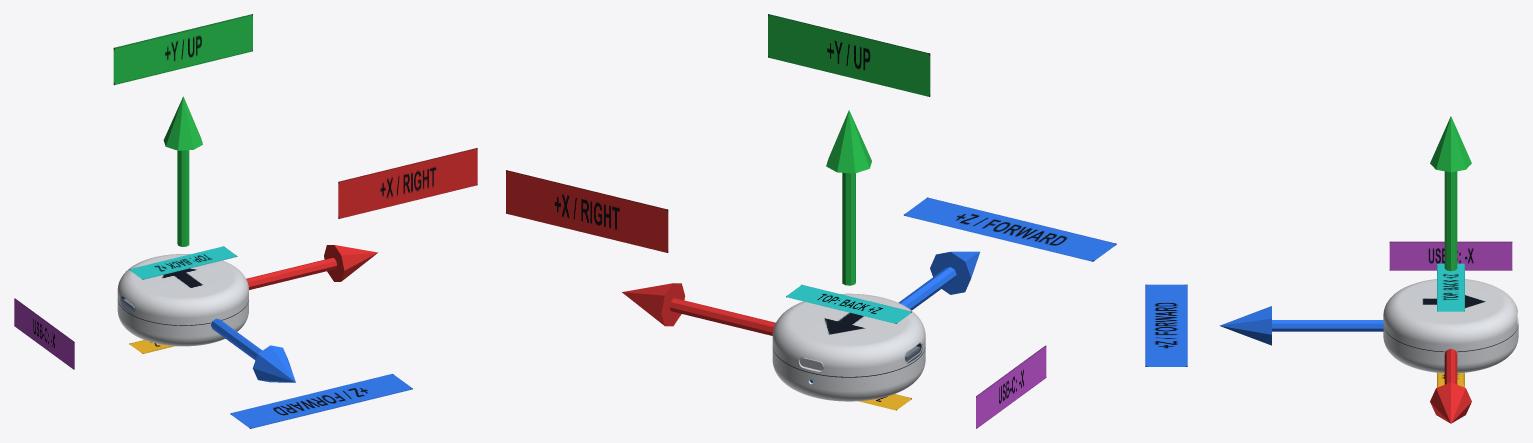
The model's file is pico_tracker_rev3_axis_debug.obj.
3 views of the same model, side by side, from view 1: azimuth 30°, elevation 25°; view 2: azimuth 150°, elevation 25°; view 3: azimuth 270°, elevation 25° (orthographic). The views are drawn at different scales.
Parts seen in each view (by area): view 1: pico_tracker_rev3_axis_debug; view 2: pico_tracker_rev3_axis_debug; view 3: pico_tracker_rev3_axis_debug.
Boxes of the visible parts, x1,y1,x2,y2 form: pico_tracker_rev3_axis_debug: (14, 14, 477, 428); pico_tracker_rev3_axis_debug: (506, 14, 1116, 428); pico_tracker_rev3_axis_debug: (1145, 116, 1518, 423).
Bounding box in the file's own units: 0.1466 × 0.0991 × 0.1062.
Materials: 1 (1 with a texture image).
